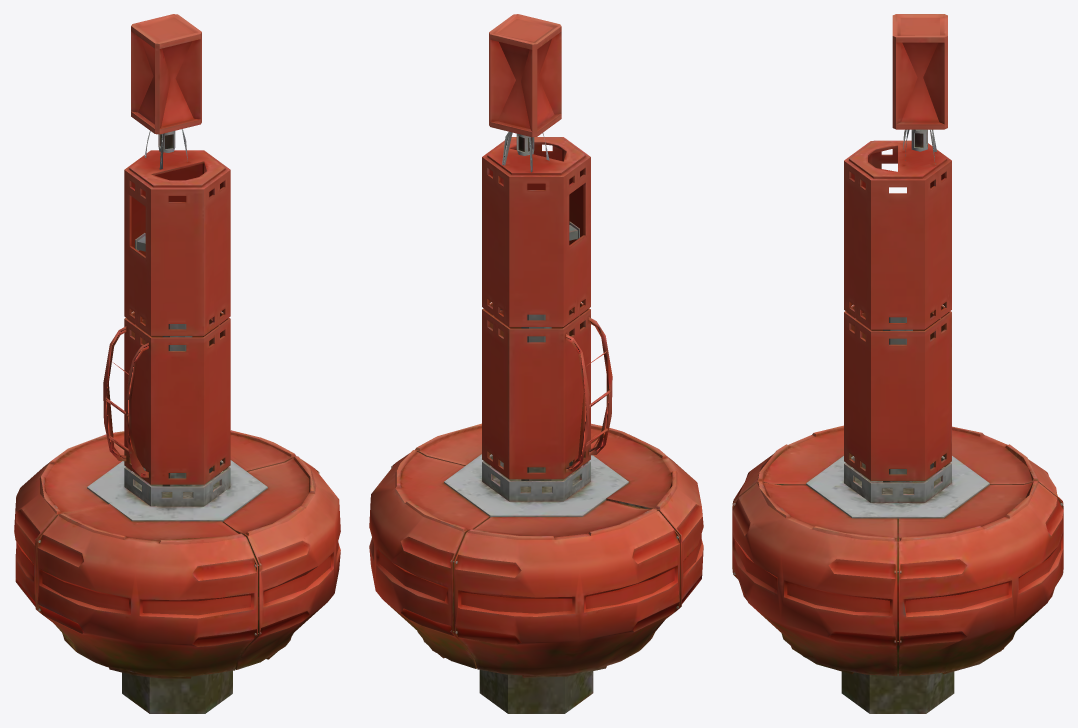
Rendered from ph-lateral_sea_marker.glb.
The picture shows the model from 3 angles, left to right: view 1: azimuth 30°, elevation 25°; view 2: azimuth 150°, elevation 25°; view 3: azimuth 270°, elevation 25°; orthographic projection. The views are drawn at different scales.
Visible parts, largest first — view 1: lateral_sea_marker; view 2: lateral_sea_marker; view 3: lateral_sea_marker.
Boxes of the visible parts, box(x1,y1,x2,y2) form: lateral_sea_marker: box(14, 14, 340, 713); lateral_sea_marker: box(369, 14, 703, 713); lateral_sea_marker: box(732, 14, 1063, 713).
Bounding box in the file's own units: 3 × 6.84 × 3.
Materials: 1 (1 with a texture image).
